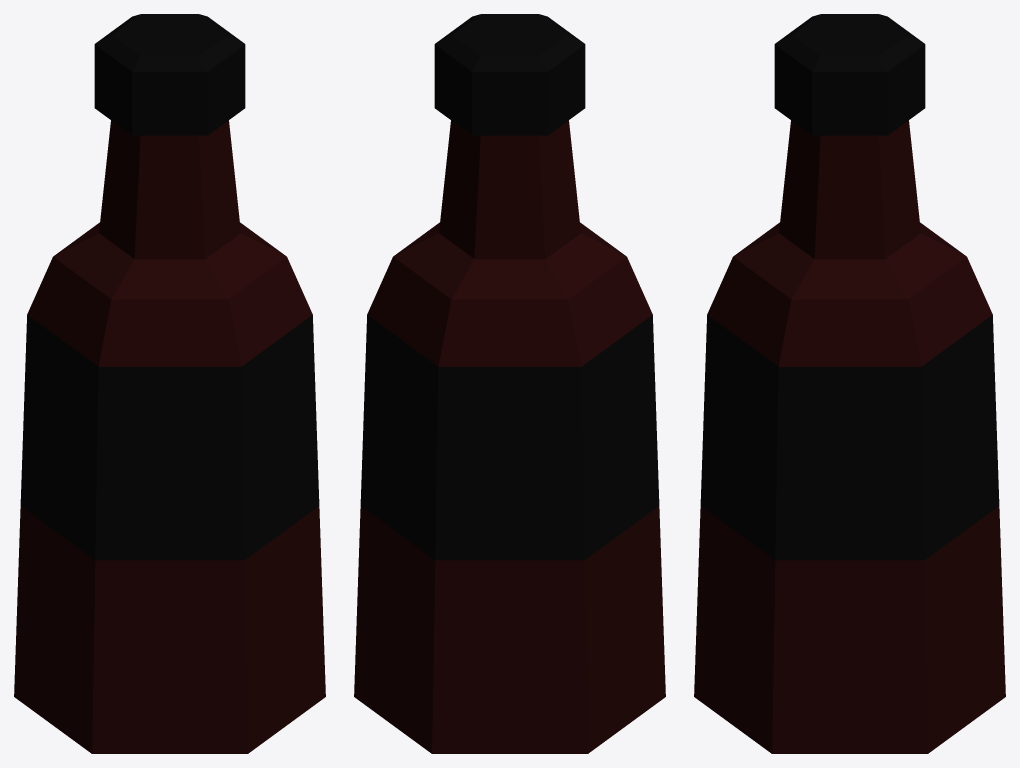
File: Bottle1Black.fbx
The picture shows the model from 3 angles, left to right: view 1: azimuth 30°, elevation 25°; view 2: azimuth 150°, elevation 25°; view 3: azimuth 270°, elevation 25°; orthographic projection.
Visible parts, largest first — view 1: Bottle1Black; view 2: Bottle1Black; view 3: Bottle1Black.
Part boxes in pixels (x1,y1,x2,y2): Bottle1Black: (14,14,325,753); Bottle1Black: (354,14,665,753); Bottle1Black: (694,14,1005,753).
Bounding box in the file's own units: 0.1442 × 0.3899 × 0.1665.
